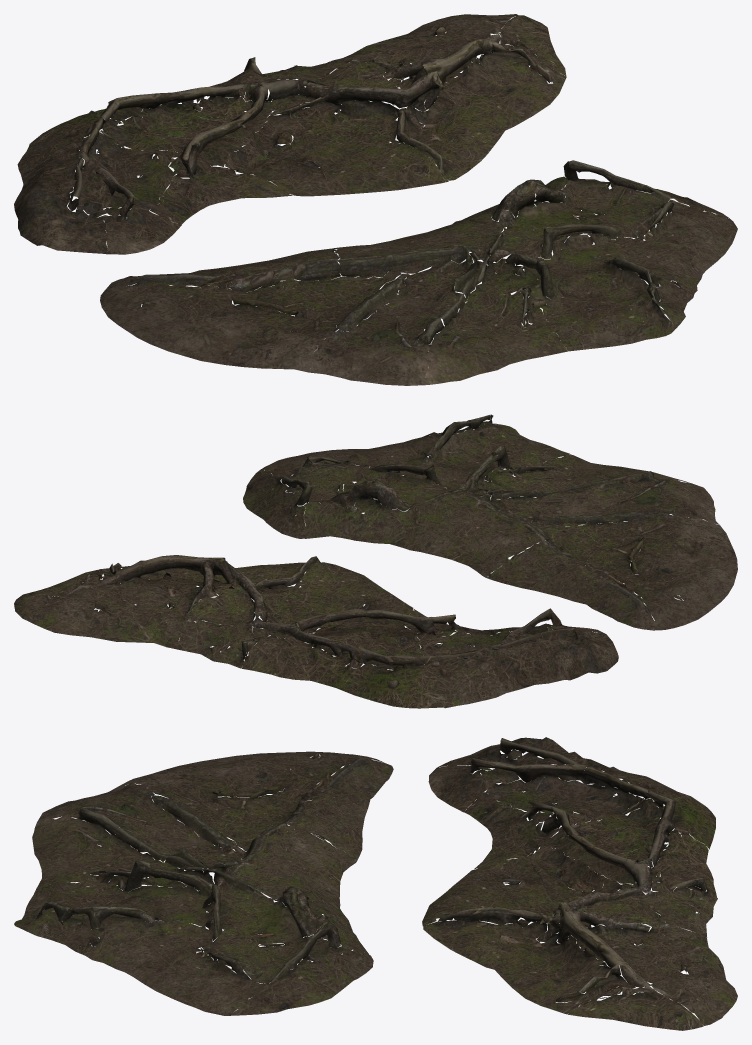
Rendered from pine_roots.glb.
The picture shows the model from 3 angles, top to bottom: view 1: azimuth 30°, elevation 25°; view 2: azimuth 150°, elevation 25°; view 3: azimuth 270°, elevation 25°; orthographic projection. The views are drawn at different scales.
Parts seen in each view (by area): view 1: pine_roots_b, pine_roots_a; view 2: pine_roots_b, pine_roots_a; view 3: pine_roots_b, pine_roots_a.
Boxes of the visible parts, x1=… form: pine_roots_b: x1=100, y1=160, x2=737, y2=385; pine_roots_a: x1=14, y1=14, x2=566, y2=254; pine_roots_b: x1=243, y1=414, x2=737, y2=630; pine_roots_a: x1=14, y1=555, x2=618, y2=708; pine_roots_b: x1=14, y1=751, x2=393, y2=1015; pine_roots_a: x1=422, y1=737, x2=737, y2=1030.
Bounding box in the file's own units: 1.77 × 0.1534 × 1.89.
2 materials, 2 textured.
